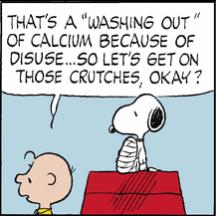charlie: (12, 149, 76, 215)
snoopy: (107, 92, 167, 174)
